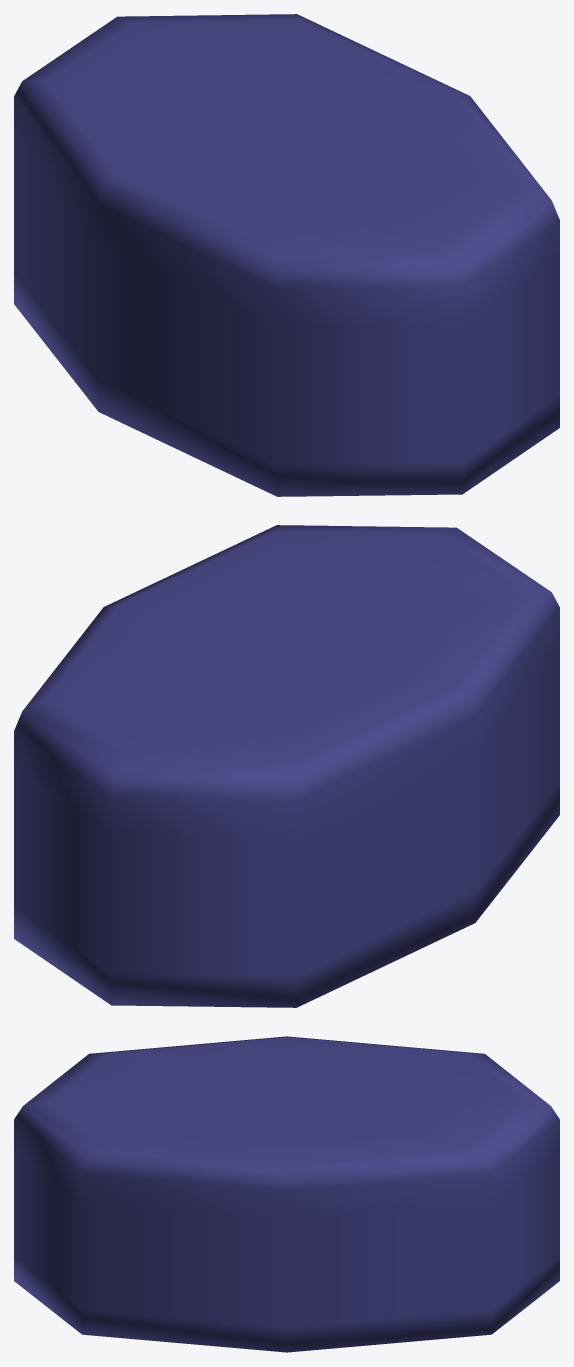
File: Rounded_Table.fbx
3 renders of one model, top to bottom at view 1: azimuth 30°, elevation 25°; view 2: azimuth 150°, elevation 25°; view 3: azimuth 270°, elevation 25°, orthographic. The views are drawn at different scales.
Visible parts, largest first — view 1: pCube11; view 2: pCube11; view 3: pCube11.
Boxes of the visible parts, left/top/right/bottom form: pCube11: left=14, top=14, right=559, bottom=496; pCube11: left=14, top=525, right=559, bottom=1007; pCube11: left=14, top=1036, right=559, bottom=1352.
Bounding box in the file's own units: 3.47 × 2.16 × 5.6.
